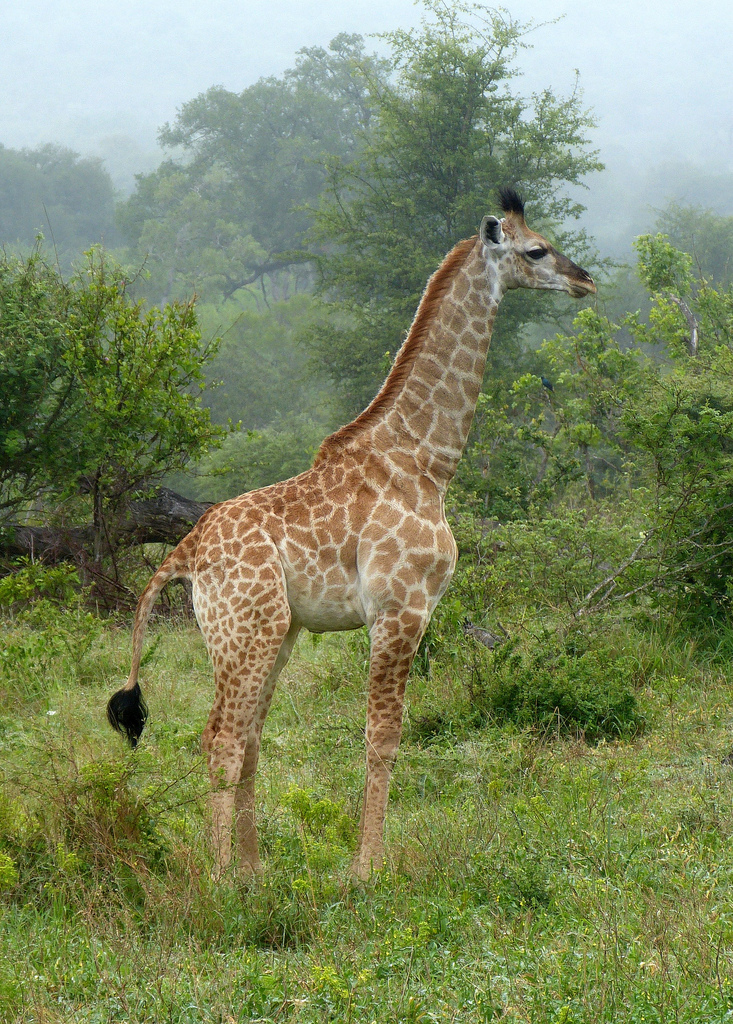giraffe: (118, 175, 597, 921)
